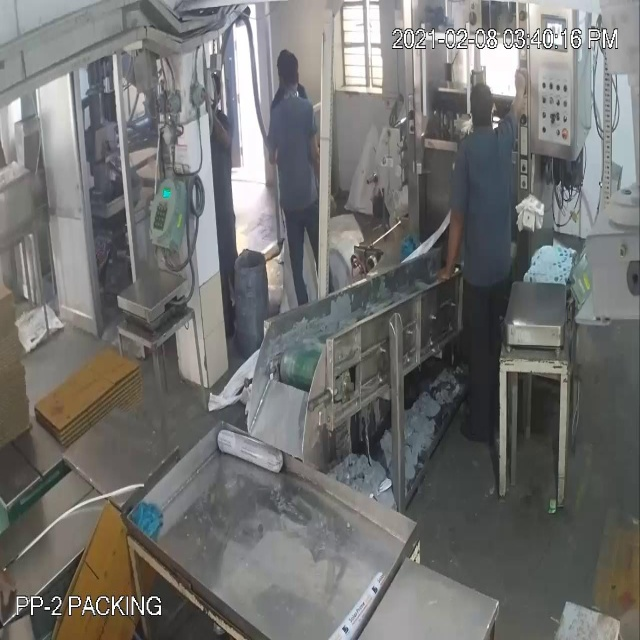Sin_guantes: (432, 193, 472, 294), (500, 64, 533, 128)
